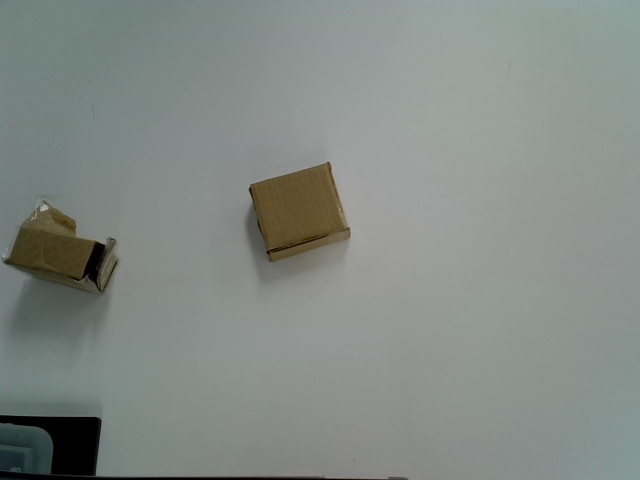defect: (1, 194, 117, 295)
normal: (248, 161, 352, 262)
